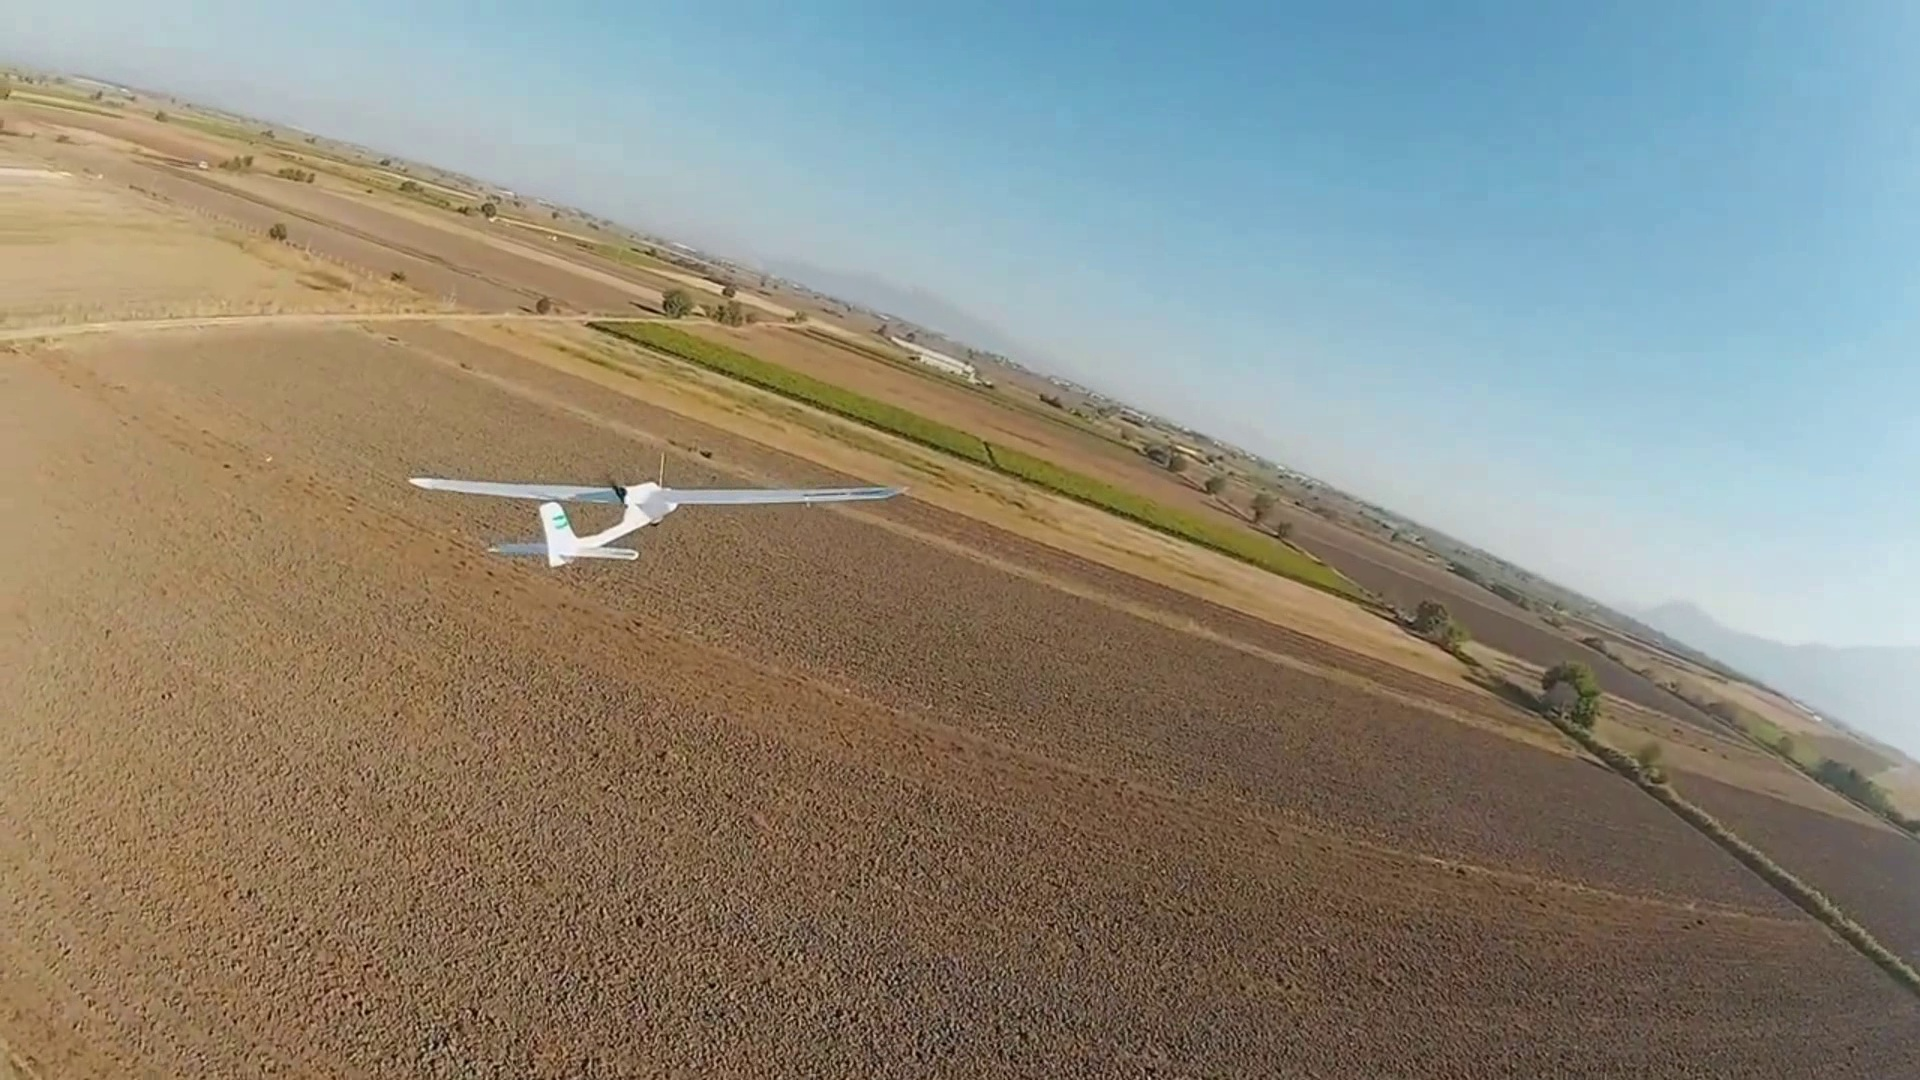airplane: (404, 475, 905, 572), (407, 468, 674, 568)
